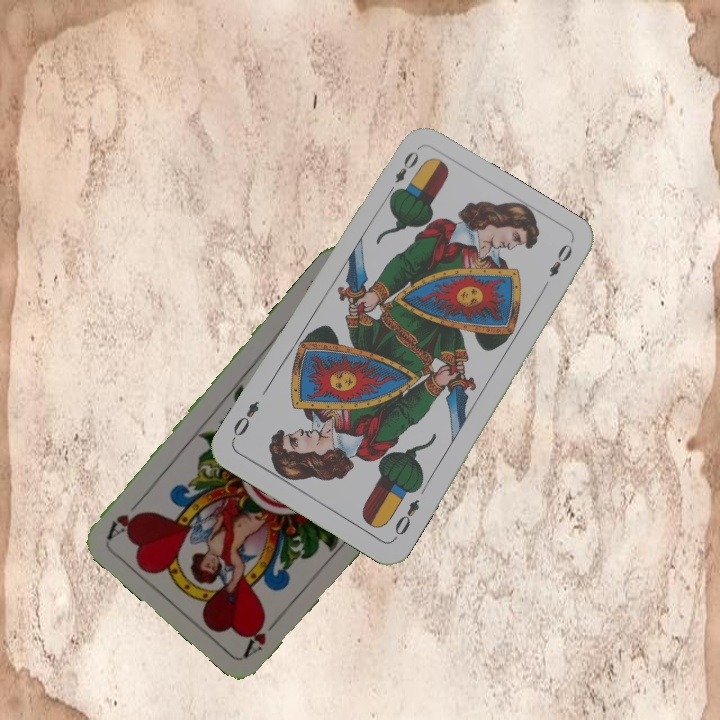EO: (383, 147, 422, 200), (390, 495, 422, 543)
HA: (240, 609, 285, 659)
